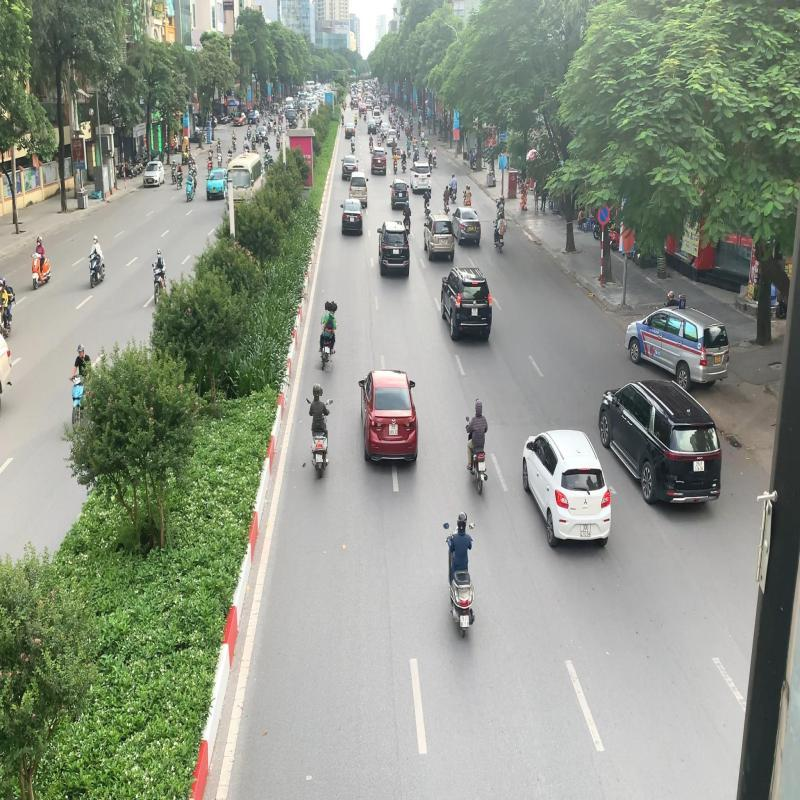helmet: (456, 510, 467, 530), (314, 382, 322, 396)
licenseplate: (460, 614, 469, 628), (316, 453, 322, 462), (324, 346, 330, 353)
motorcyclist: (443, 509, 477, 638), (306, 382, 334, 478), (316, 300, 338, 372)
nohelmet: (327, 303, 332, 311), (325, 301, 329, 310)
